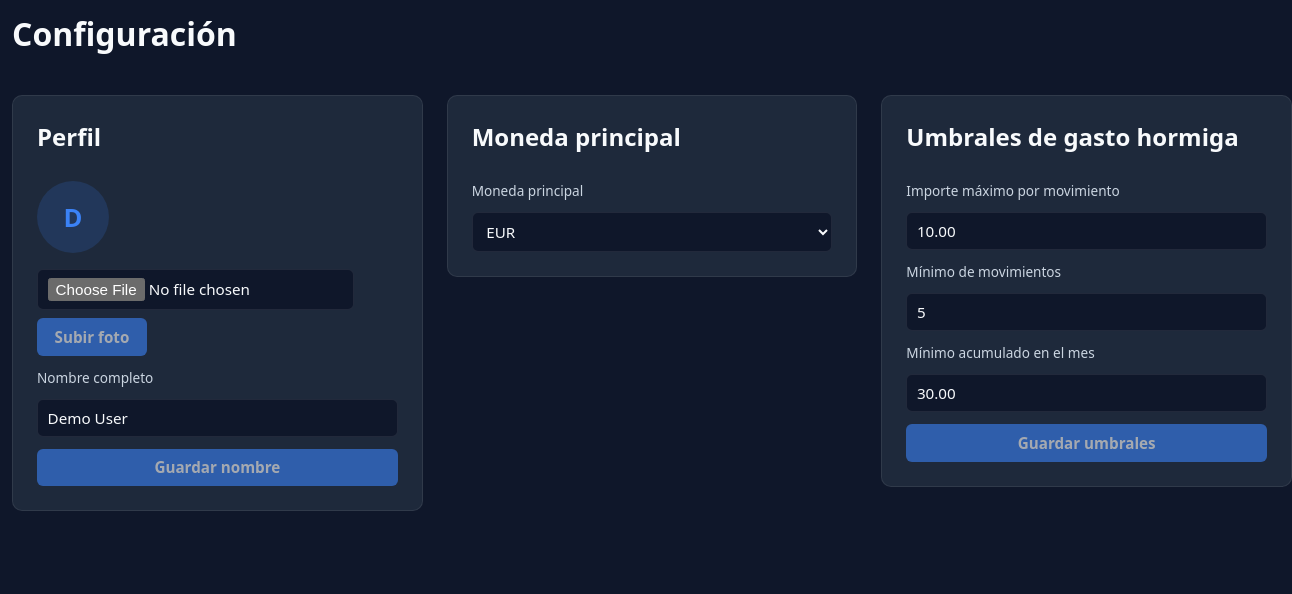
Scenario: PreferencesPage › permite editar el nombre completo
The image size is (1292, 594).
Replace the text in the field labelled "Nombre completo" with "Nuevo Nombre" at (217, 418), box [37,399,398,437]
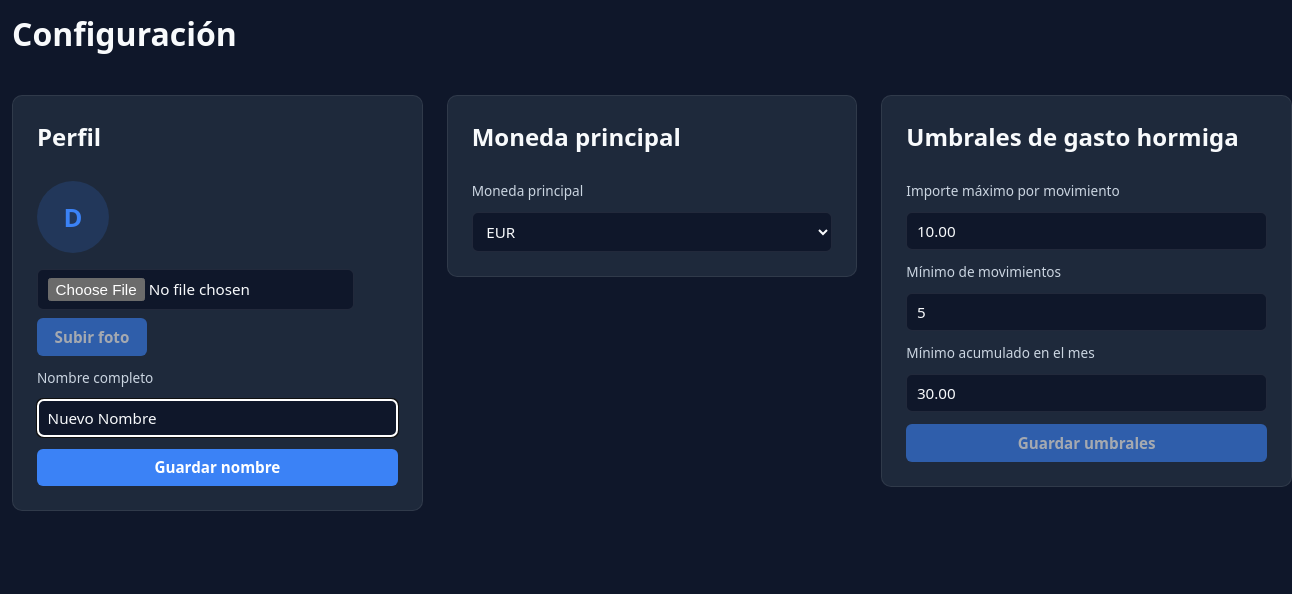
Click the button "Guardar nombre" at (217, 467), box [37,449,398,486]
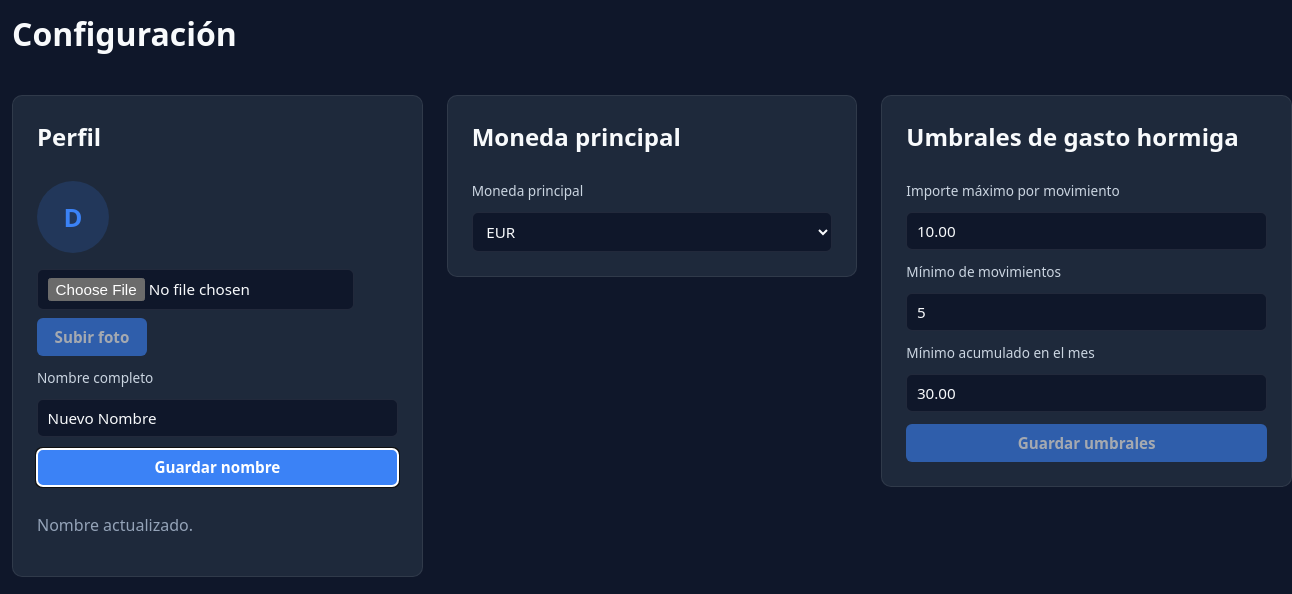
Check: the text "Nombre actualizado." is shown, box [37,514,193,536]
